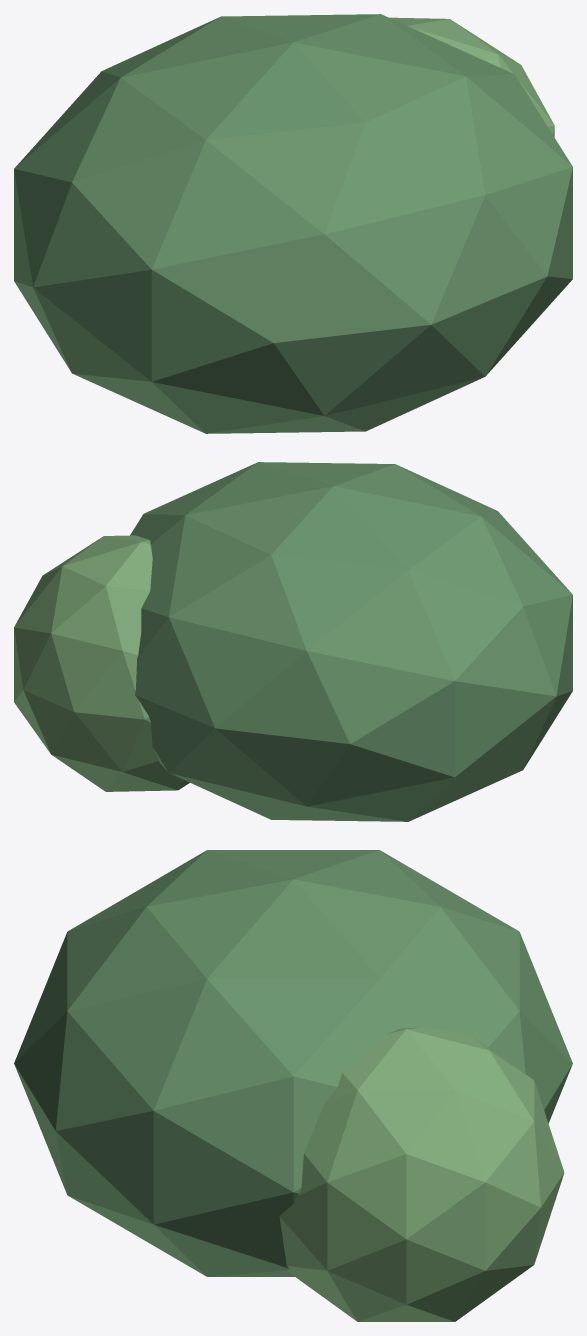
Rendered from bush.glb.
3 views of the same model, one above another, from view 1: azimuth 30°, elevation 25°; view 2: azimuth 150°, elevation 25°; view 3: azimuth 270°, elevation 25° (orthographic). The views are drawn at different scales.
Visible parts, largest first — view 1: bush_00, bush_01; view 2: bush_00, bush_01; view 3: bush_00, bush_01.
Boxes of the visible parts, <box> form: bush_00: <box>14,14,572,433</box>; bush_01: <box>389,17,554,136</box>; bush_00: <box>130,462,572,821</box>; bush_01: <box>14,535,189,791</box>; bush_00: <box>14,850,572,1276</box>; bush_01: <box>279,1027,564,1321</box>.
Size of the model in its own units: 1.17 by 0.72 by 0.99.
